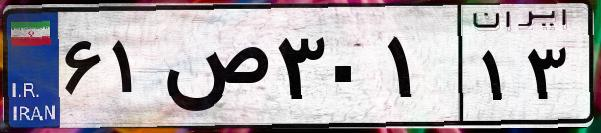0: (330, 28, 385, 110)
1: (385, 28, 445, 110), (475, 38, 525, 113), (110, 28, 158, 98)
3: (270, 28, 330, 110), (525, 38, 570, 115)
6: (57, 26, 110, 100)
ص: (158, 20, 270, 120)
